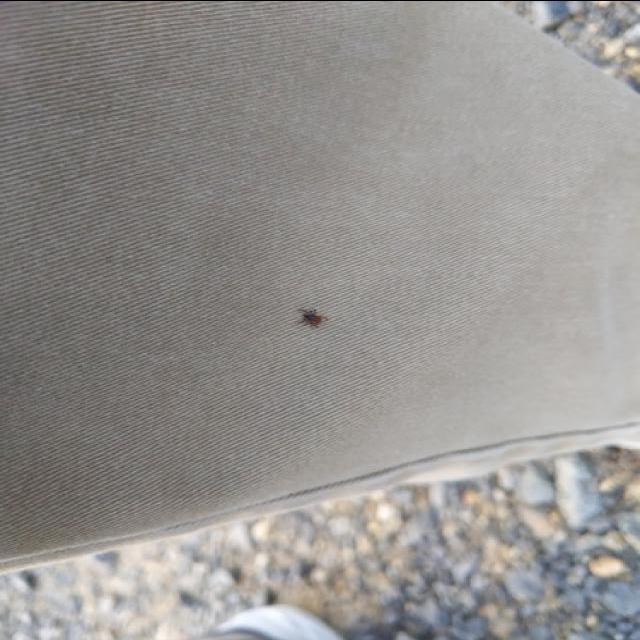Ixodes Ricinus-F: (297, 306, 331, 334)
